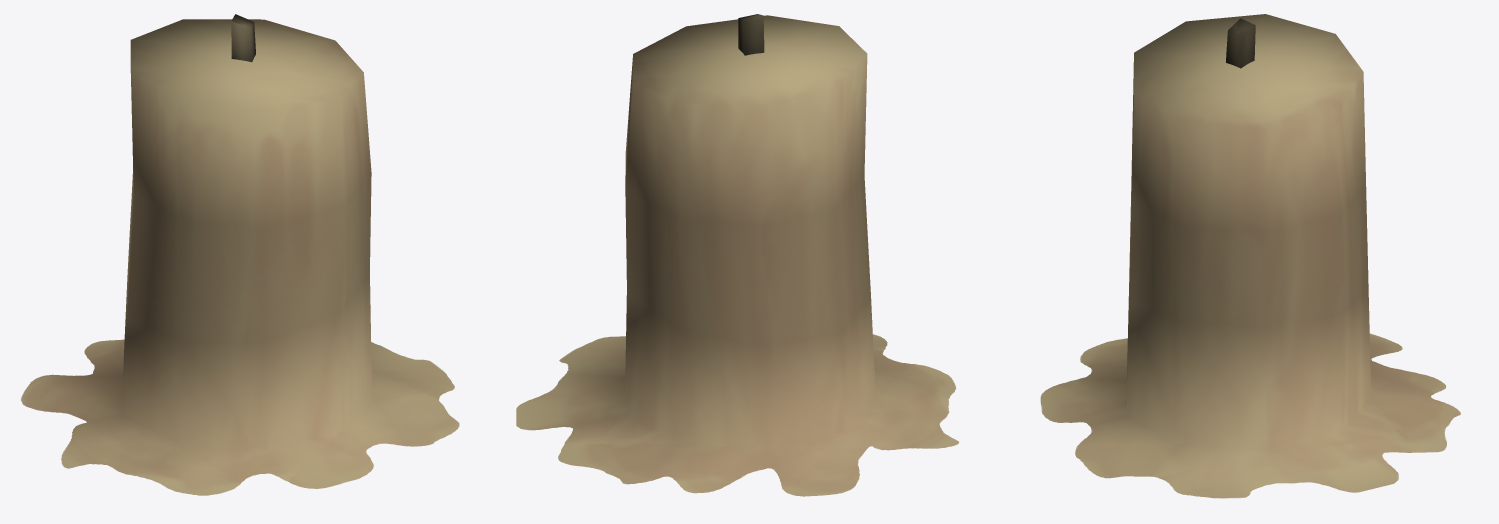
Rendered from candle_02.fbx.
3 renders of one model, left to right at view 1: azimuth 30°, elevation 25°; view 2: azimuth 150°, elevation 25°; view 3: azimuth 270°, elevation 25°, orthographic. The views are drawn at different scales.
Parts seen in each view (by area): view 1: candle_02; view 2: candle_02; view 3: candle_02.
Part boxes in pixels (x1=…): candle_02: x1=21, y1=14, x2=459, y2=495; candle_02: x1=516, y1=14, x2=958, y2=496; candle_02: x1=1040, y1=14, x2=1460, y2=498.
Bounding box in the file's own units: 34.08 × 30.73 × 33.56.
